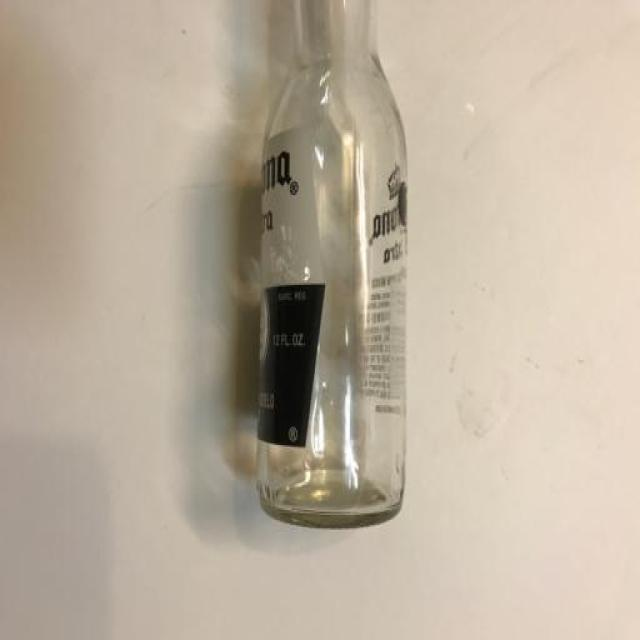glass: (210, 0, 413, 540)
